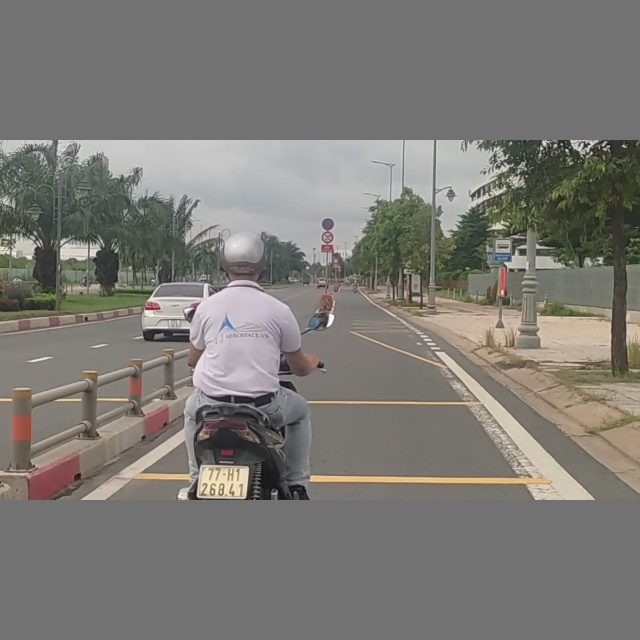I.434a: (492, 238, 515, 263)
P.111: (321, 231, 335, 243)
P.130: (321, 218, 335, 231)
